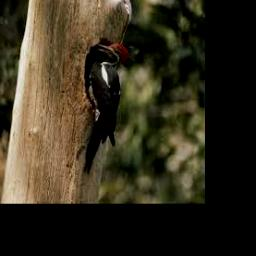Woodpecker: (83, 43, 128, 174)
